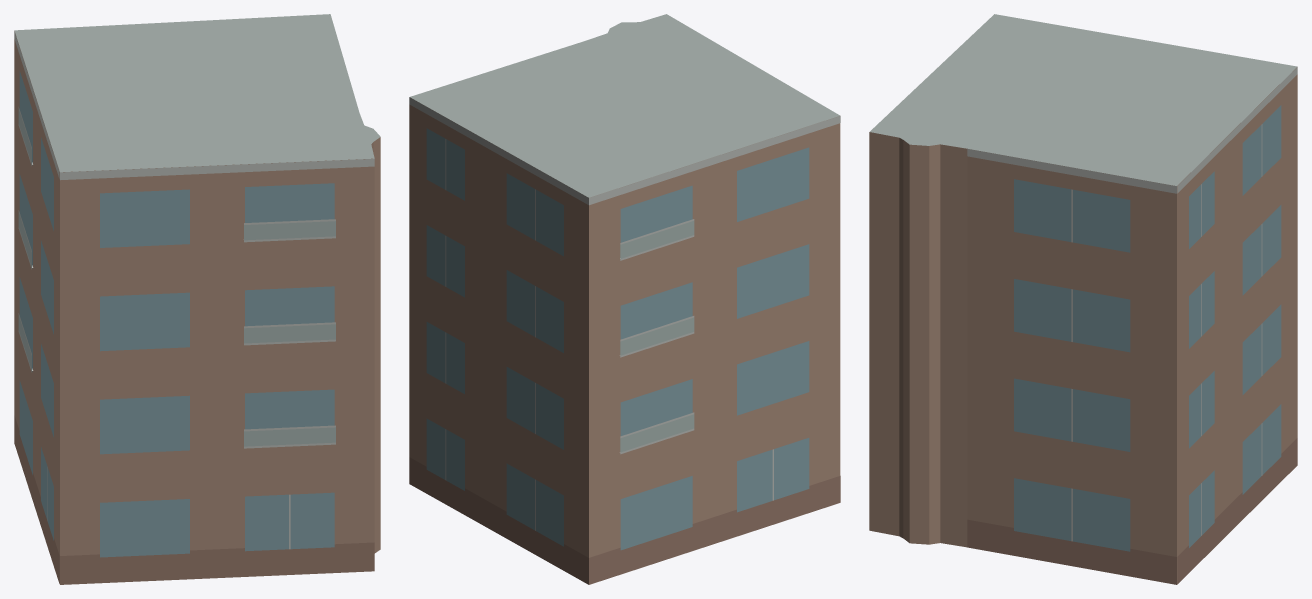
File: survey-upis-33024044.glb
3 views of the same model, side by side, from view 1: azimuth 30°, elevation 25°; view 2: azimuth 150°, elevation 25°; view 3: azimuth 270°, elevation 25° (orthographic). The views are drawn at different scales.
Parts seen in each view (by area): view 1: survey-upis-33024044.tmp; view 2: survey-upis-33024044.tmp; view 3: survey-upis-33024044.tmp.
Boxes of the visible parts, box(x1,y1,x2,y2) form: survey-upis-33024044.tmp: box(14, 14, 380, 584); survey-upis-33024044.tmp: box(409, 14, 840, 584); survey-upis-33024044.tmp: box(869, 14, 1297, 584).
Bounding box in the file's own units: 11.77 × 12.7 × 12.37.
